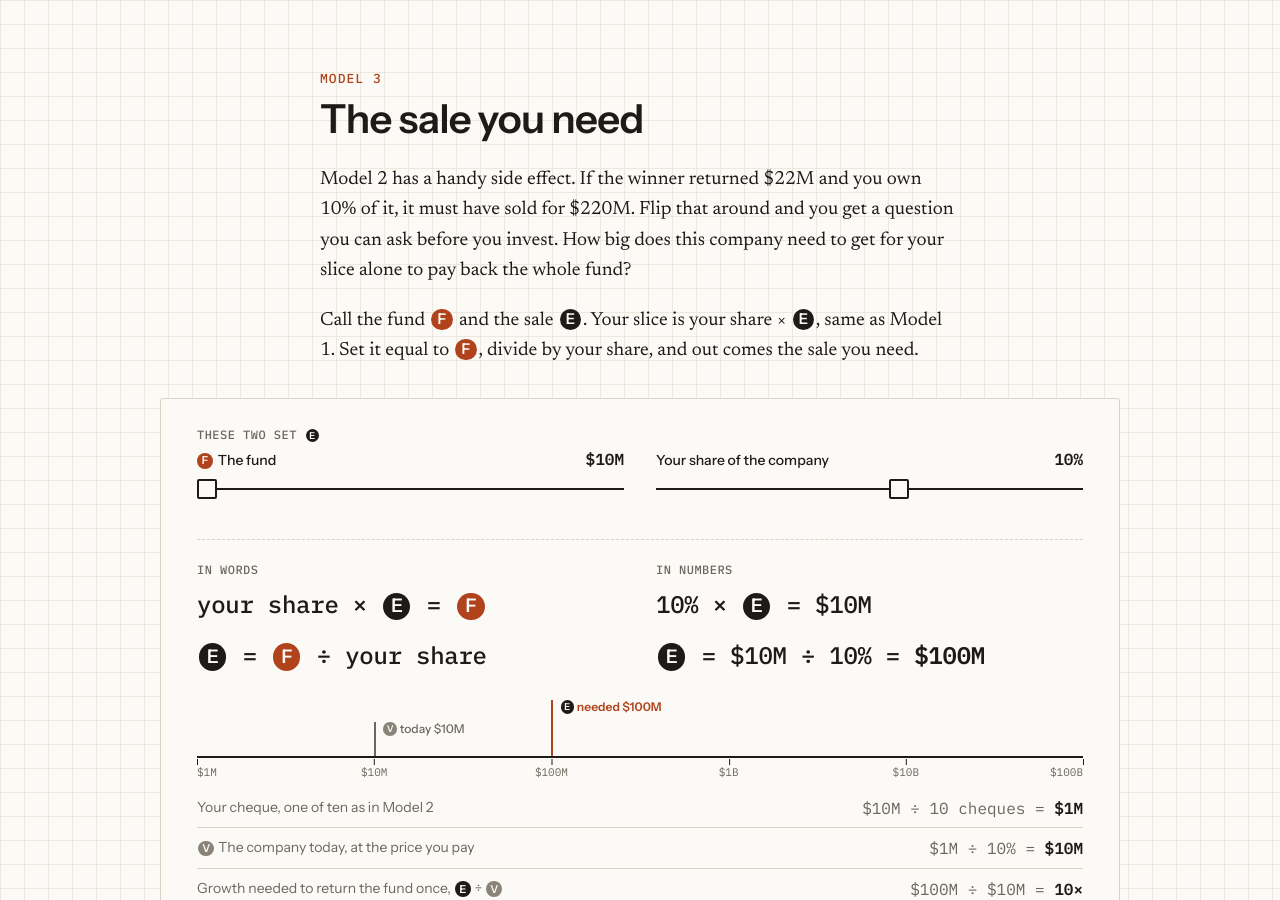
Test: Model 3: the napkin sum › divides the fund by your share
The image size is (1280, 900).
Check: the text with test id "exit-needed" reads "$100M", box [914,638,985,670]
Set the slider labelled "F The fund" to "3" at (381, 489), box [197,475,624,503]
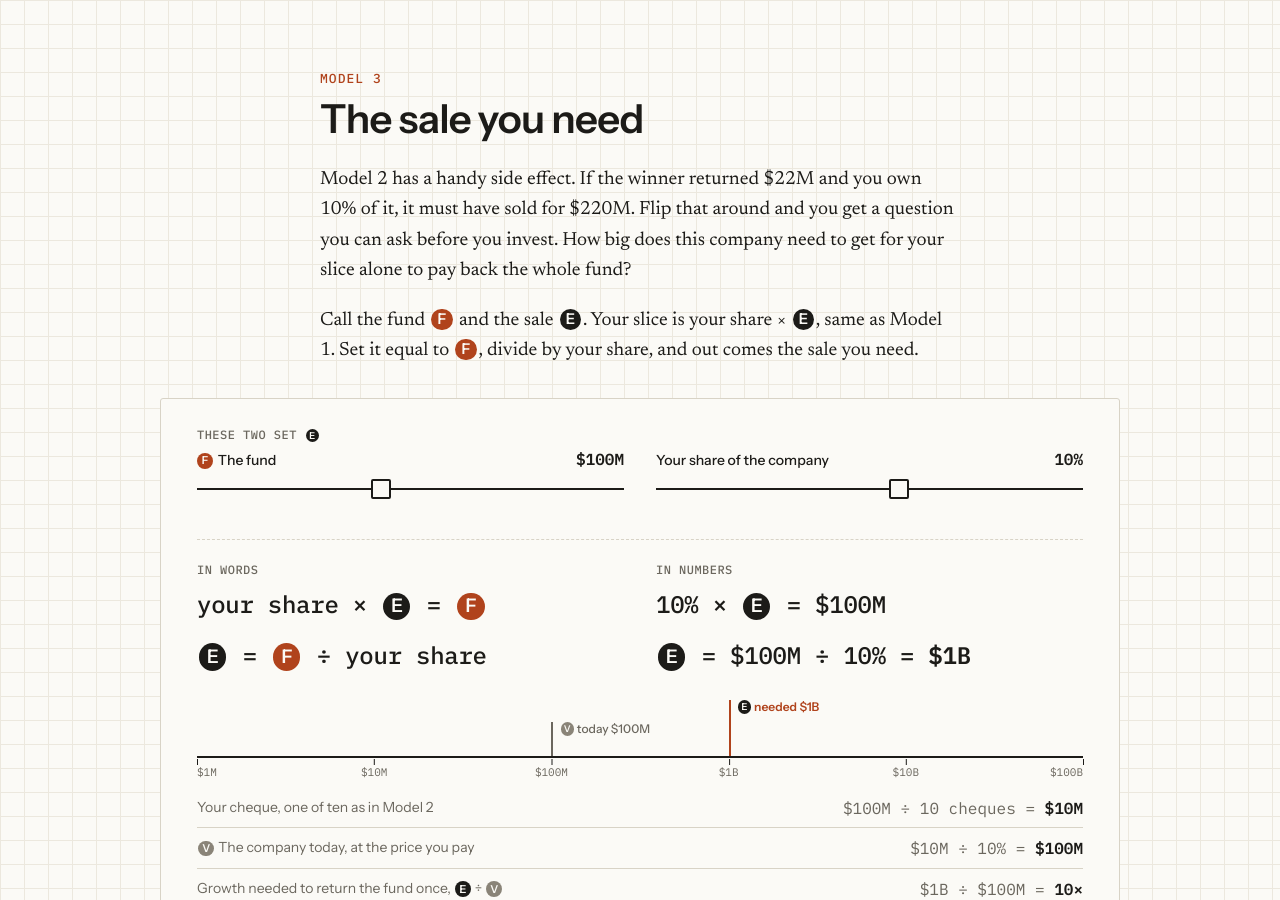
Check: the text with test id "exit-needed" reads "$1B", box [928,638,971,670]
